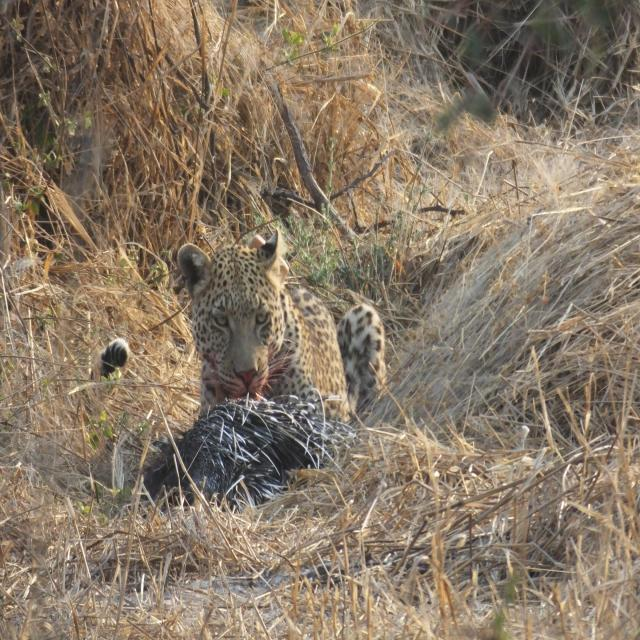Leopard: (88, 250, 388, 438)
